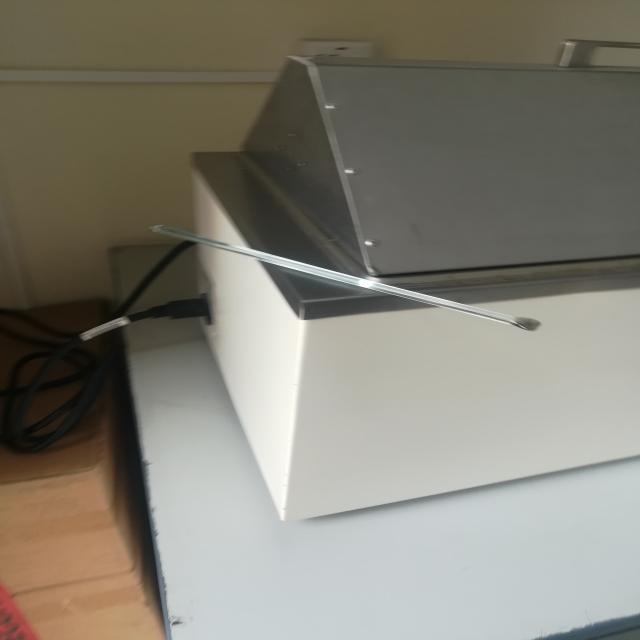Glass_Rod: (132, 170, 556, 381)
